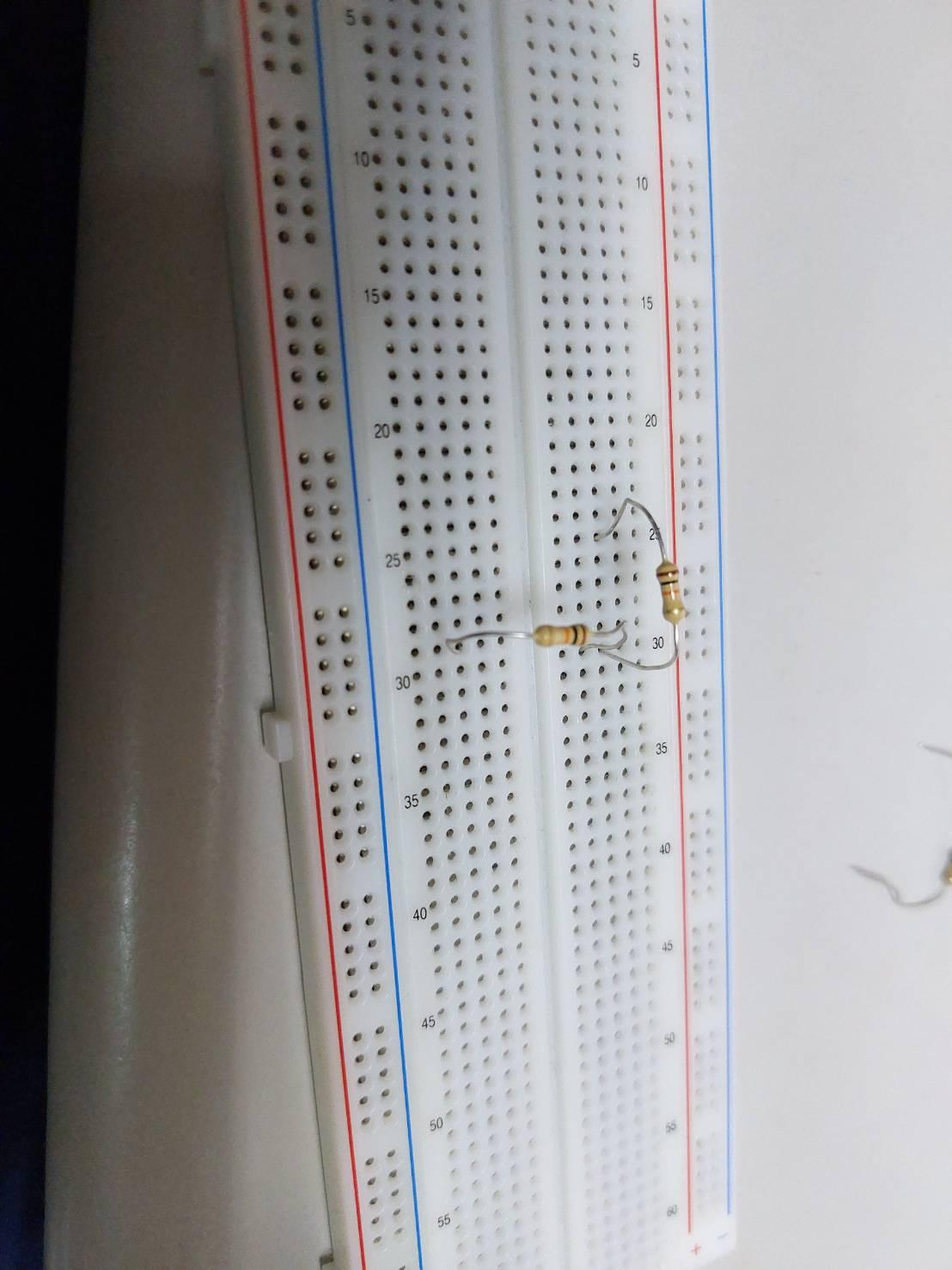resistor: (657, 561, 687, 626), (533, 624, 590, 647)
